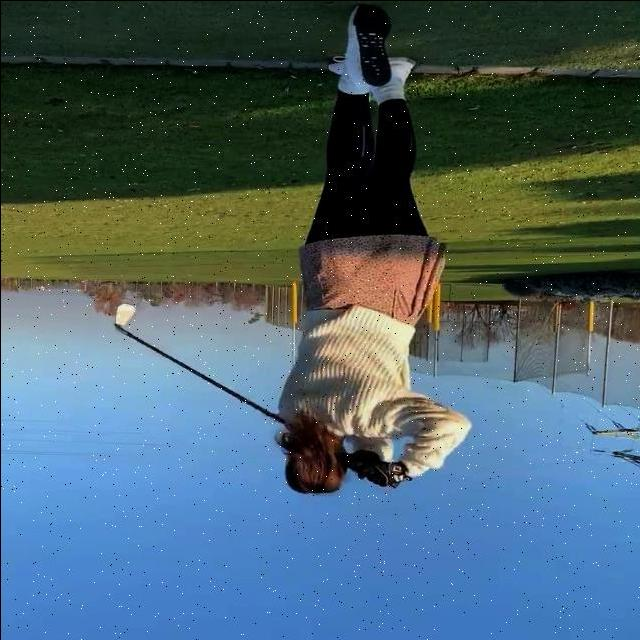golf club-handle: (113, 302, 398, 488)
golf club-head: (114, 303, 135, 326)
